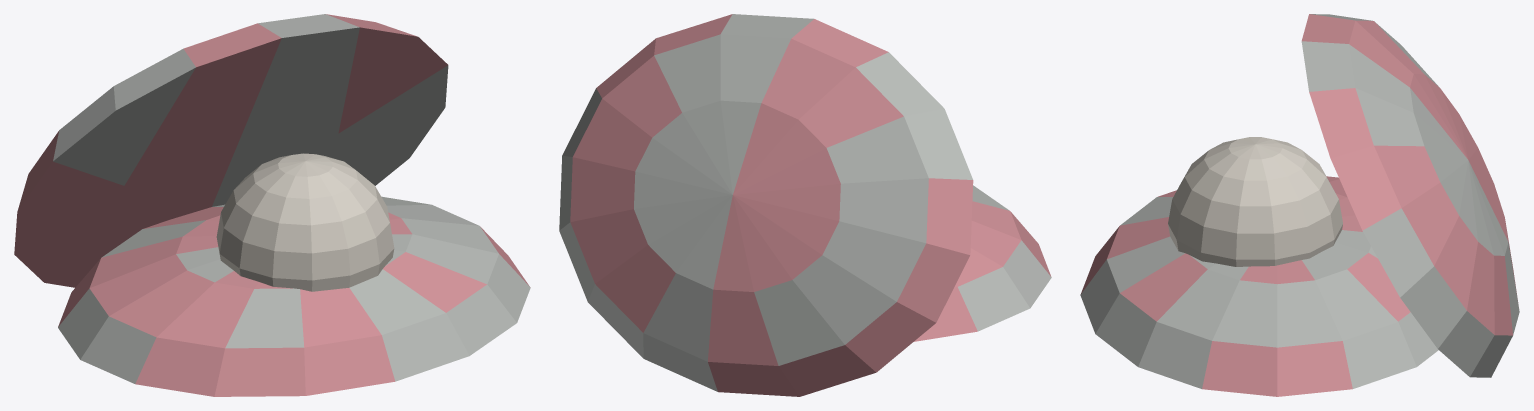
Rendered from token.glb.
The picture shows the model from 3 angles, left to right: view 1: azimuth 30°, elevation 25°; view 2: azimuth 150°, elevation 25°; view 3: azimuth 270°, elevation 25°; orthographic projection. The views are drawn at different scales.
Parts seen in each view (by area): view 1: token; view 2: token; view 3: token.
Boxes of the visible parts, x1,y1,x2,y2 form: token: [14, 14, 530, 396]; token: [559, 14, 1051, 396]; token: [1080, 14, 1519, 396].
Bounding box in the file's own units: 1.1 × 0.7794 × 1.
